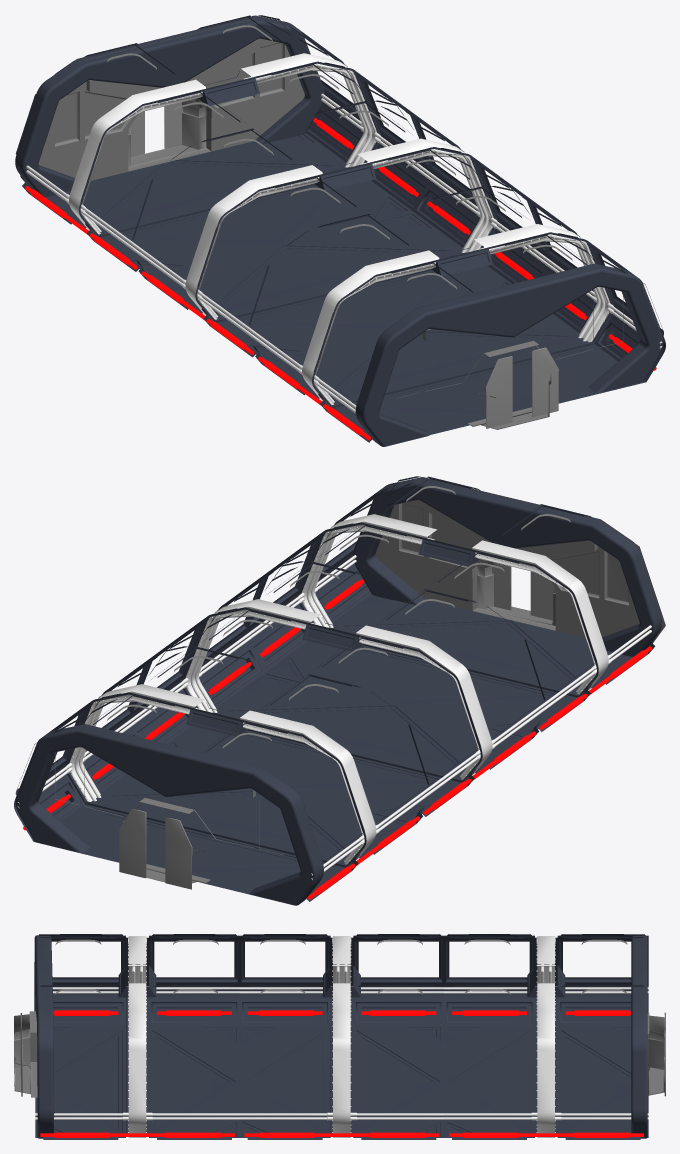
3 renders of one model, top to bottom at view 1: azimuth 30°, elevation 25°; view 2: azimuth 150°, elevation 25°; view 3: azimuth 270°, elevation 25°, orthographic. The views are drawn at different scales.
Parts seen in each view (by area): view 1: Floor, Room, Pillars, Pillar.001, Door, Pillar, Red_Lights, Right_Door, TopLights, Door.001, Right_Door.001; view 2: Floor, Room, Pillars, Pillar, Door.001, Pillar.001, Red_Lights, Right_Door.001, Right_Door, Left_Door, TopLights, Door; view 3: Floor, Room, Pillars, Red_Lights, Pillar.001, Pillar, Door.001, Door, TopLights.
Boxes of the visible parts, x1,y1,x2,y2 form: Floor: (45, 133, 645, 435); Room: (15, 15, 665, 443); Pillars: (26, 53, 662, 413); Pillar.001: (355, 263, 663, 446); Door: (18, 18, 304, 180); Pillar: (15, 15, 324, 196); Red_Lights: (25, 117, 656, 440); Right_Door: (485, 347, 558, 428); TopLights: (107, 25, 572, 289); Door.001: (396, 293, 623, 429); Right_Door.001: (130, 102, 183, 156); Floor: (34, 594, 632, 905); Room: (14, 476, 661, 903); Pillars: (17, 514, 651, 880); Pillar: (15, 724, 323, 905); Door.001: (375, 479, 665, 643); Pillar.001: (353, 477, 662, 656); Red_Lights: (23, 579, 652, 899); Right_Door.001: (119, 808, 192, 888); Right_Door: (492, 562, 554, 620); Left_Door: (165, 817, 192, 889); TopLights: (107, 486, 570, 748); Door: (55, 752, 283, 883); Floor: (35, 1025, 648, 1137); Room: (35, 934, 648, 1139); Pillars: (35, 936, 648, 1137); Red_Lights: (40, 1010, 643, 1137); Pillar.001: (34, 935, 54, 1138); Pillar: (631, 935, 647, 1138); Door.001: (14, 999, 37, 1097); Door: (647, 1012, 664, 1098); TopLights: (55, 939, 627, 994).
Size of the model in its own units: 5.99 by 2.39 by 12.59.
